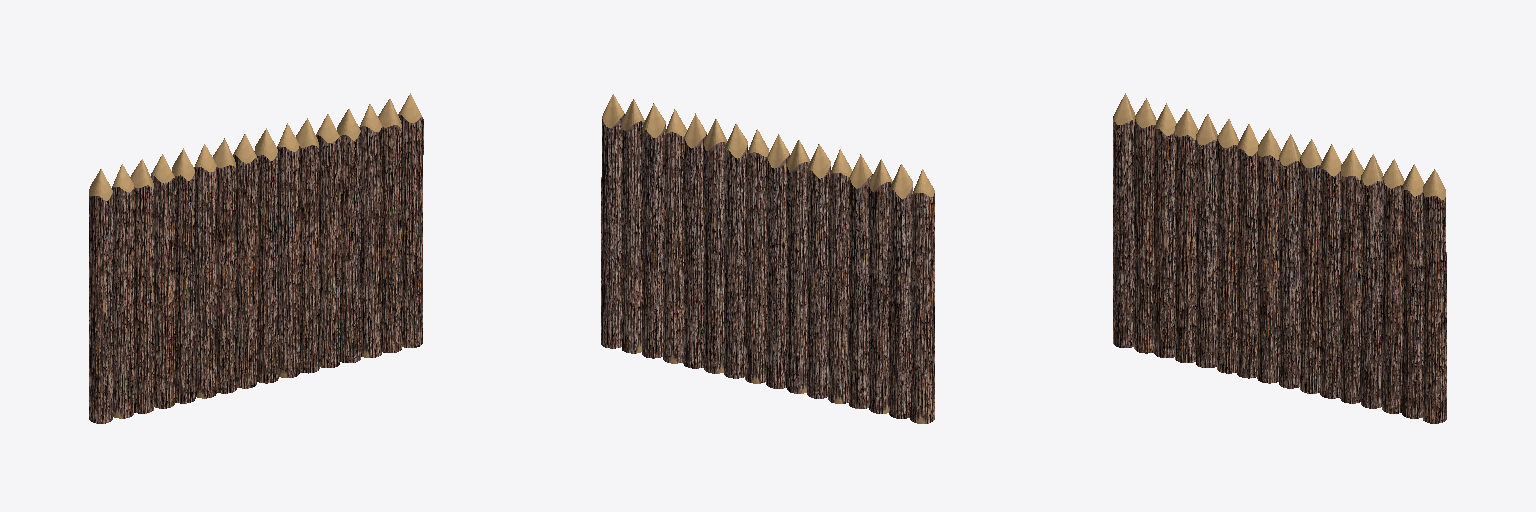
The picture shows the model from 3 angles: view 1: azimuth 30°, elevation 25°; view 2: azimuth 150°, elevation 25°; view 3: azimuth 330°, elevation 25°; orthographic projection.
Parts seen in each view (by area): view 1: Cylindre.015, Cylindre.006, Cylindre.010, Cylindre.012, Cylindre.004, Cylindre, Cylindre.008, Cylindre.014, Cylindre.002, Cylindre.007, Cylindre.003, Cylindre.011 (+4 smaller); view 2: Cylindre.015, Cylindre.014, Cylindre.002, Cylindre.006, Cylindre.010, Cylindre.007, Cylindre, Cylindre.003, Cylindre.011, Cylindre.008, Cylindre.004, Cylindre.005 (+4 smaller); view 3: Cylindre, Cylindre.015, Cylindre.008, Cylindre.012, Cylindre.001, Cylindre.007, Cylindre.003, Cylindre.011, Cylindre.013, Cylindre.004, Cylindre.009, Cylindre.005 (+4 smaller).
Boxes of the visible parts, box(x1,y1,x2,y2) form: Cylindre.015: box(89, 169, 112, 423); Cylindre.006: box(277, 123, 299, 377); Cylindre.010: box(194, 144, 216, 398); Cylindre.012: box(151, 154, 175, 408); Cylindre.004: box(316, 114, 340, 367); Cylindre: box(398, 93, 423, 347); Cylindre.008: box(233, 134, 257, 388); Cylindre.014: box(112, 164, 133, 418); Cylindre.002: box(359, 104, 381, 357); Cylindre.007: box(254, 128, 278, 383); Cylindre.003: box(337, 109, 360, 362); Cylindre.011: box(172, 148, 195, 403); Cylindre.015: box(910, 169, 934, 423); Cylindre.014: box(889, 164, 912, 418); Cylindre.002: box(641, 103, 665, 358); Cylindre.006: box(724, 124, 747, 378); Cylindre.010: box(807, 144, 830, 398); Cylindre.007: box(745, 129, 768, 383); Cylindre: box(601, 94, 624, 348); Cylindre.003: box(663, 109, 686, 363); Cylindre.011: box(828, 149, 851, 403); Cylindre.008: box(766, 134, 789, 388); Cylindre.004: box(683, 113, 706, 368); Cylindre.005: box(704, 119, 726, 373); Cylindre: box(1423, 169, 1446, 423); Cylindre.015: box(1113, 93, 1135, 347); Cylindre.008: box(1257, 128, 1280, 383); Cylindre.012: box(1175, 109, 1198, 362); Cylindre.001: box(1402, 164, 1423, 418); Cylindre.007: box(1279, 134, 1300, 388); Cylindre.003: box(1361, 154, 1382, 408); Cylindre.011: box(1196, 114, 1217, 367); Cylindre.013: box(1154, 103, 1176, 357); Cylindre.004: box(1340, 148, 1363, 403); Cylindre.009: box(1237, 124, 1258, 378); Cylindre.005: box(1320, 144, 1341, 398).
Size of the model in its own units: 31.41 by 22.73 by 2.06.
1 materials, 1 textured.